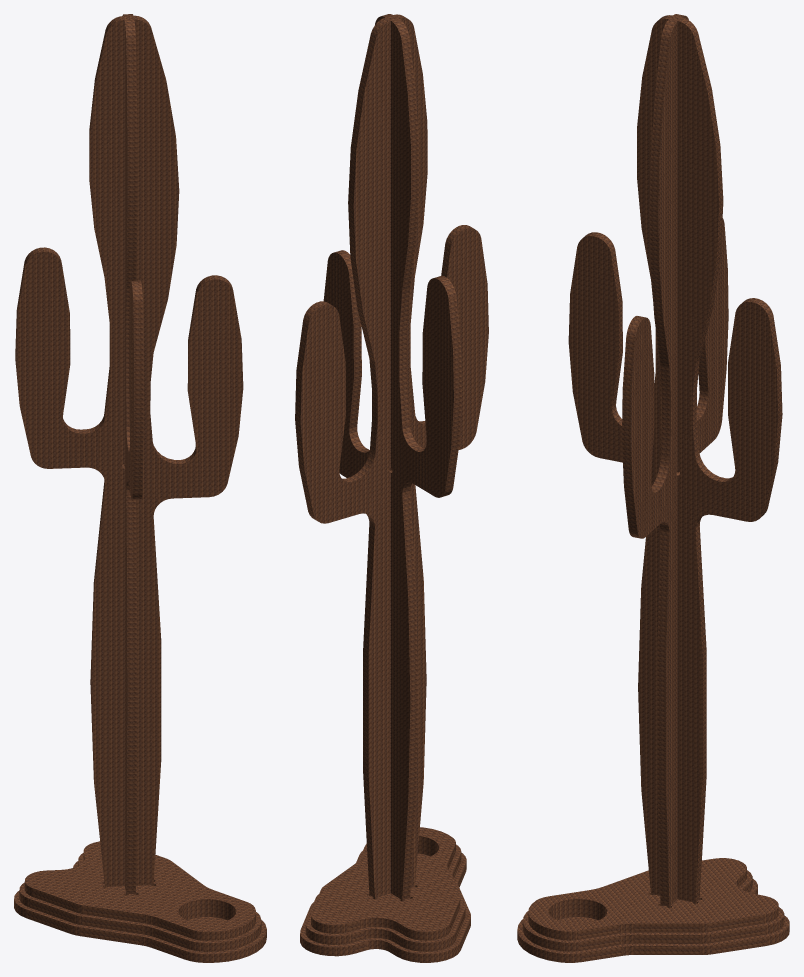
The model's file is cacti_0.gltf.
3 renders of one model, left to right at view 1: azimuth 30°, elevation 25°; view 2: azimuth 150°, elevation 25°; view 3: azimuth 270°, elevation 25°, orthographic.
Visible parts, largest first — view 1: CACTI ASSEMBLY v3; view 2: CACTI ASSEMBLY v3; view 3: CACTI ASSEMBLY v3.
Boxes of the visible parts, x1,y1,x2,y2 form: CACTI ASSEMBLY v3: [14, 14, 266, 962]; CACTI ASSEMBLY v3: [295, 14, 488, 962]; CACTI ASSEMBLY v3: [517, 14, 789, 962].
Size of the model in its own units: 0.392 by 1.83 by 0.4991.
1 material, 1 textured.
